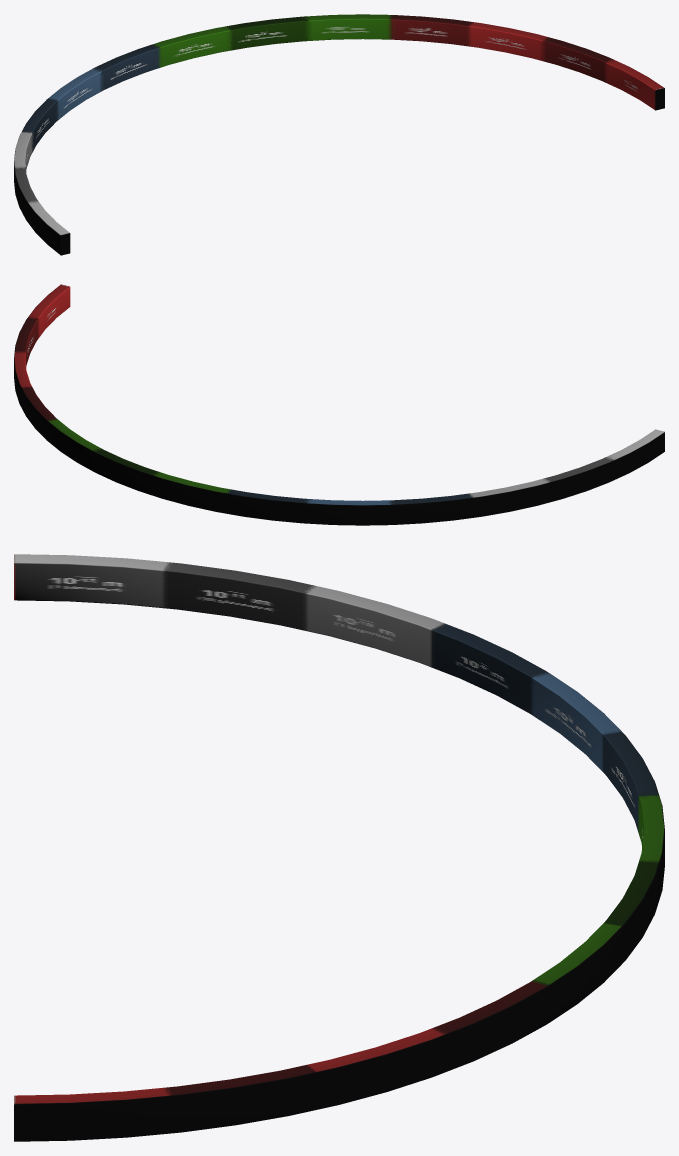
The model's file is scalebar.dae.
The picture shows the model from 3 angles, top to bottom: view 1: azimuth 30°, elevation 25°; view 2: azimuth 150°, elevation 25°; view 3: azimuth 270°, elevation 25°; orthographic projection. The views are drawn at different scales.
Parts seen in each view (by area): view 1: scalebar.1; view 2: scalebar.1; view 3: scalebar.1.
Part boxes in pixels (left/top/right/bottom): scalebar.1: left=14, top=14, right=664, bottom=255; scalebar.1: left=14, top=284, right=664, bottom=525; scalebar.1: left=14, top=554, right=664, bottom=1141.
Bounding box in the file's own units: 62 × 2 × 31.
1 material, 1 textured.
